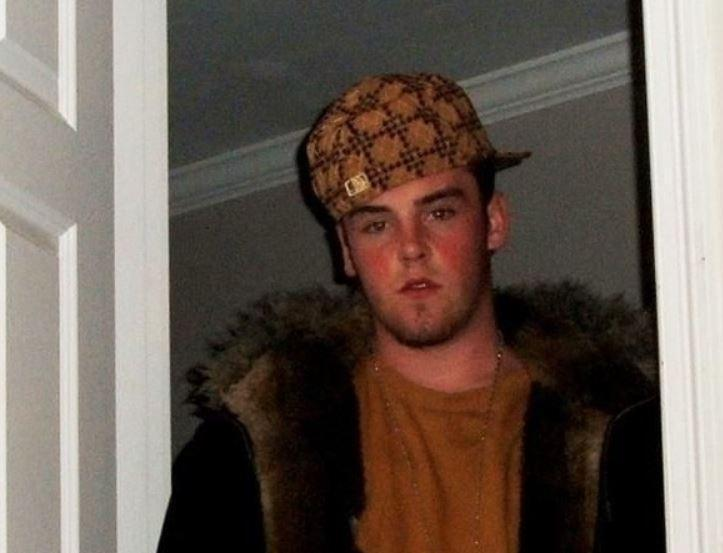Drunk: (352, 170, 488, 332)
